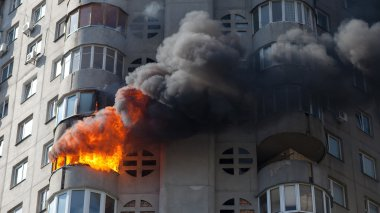fire: (44, 103, 130, 174)
